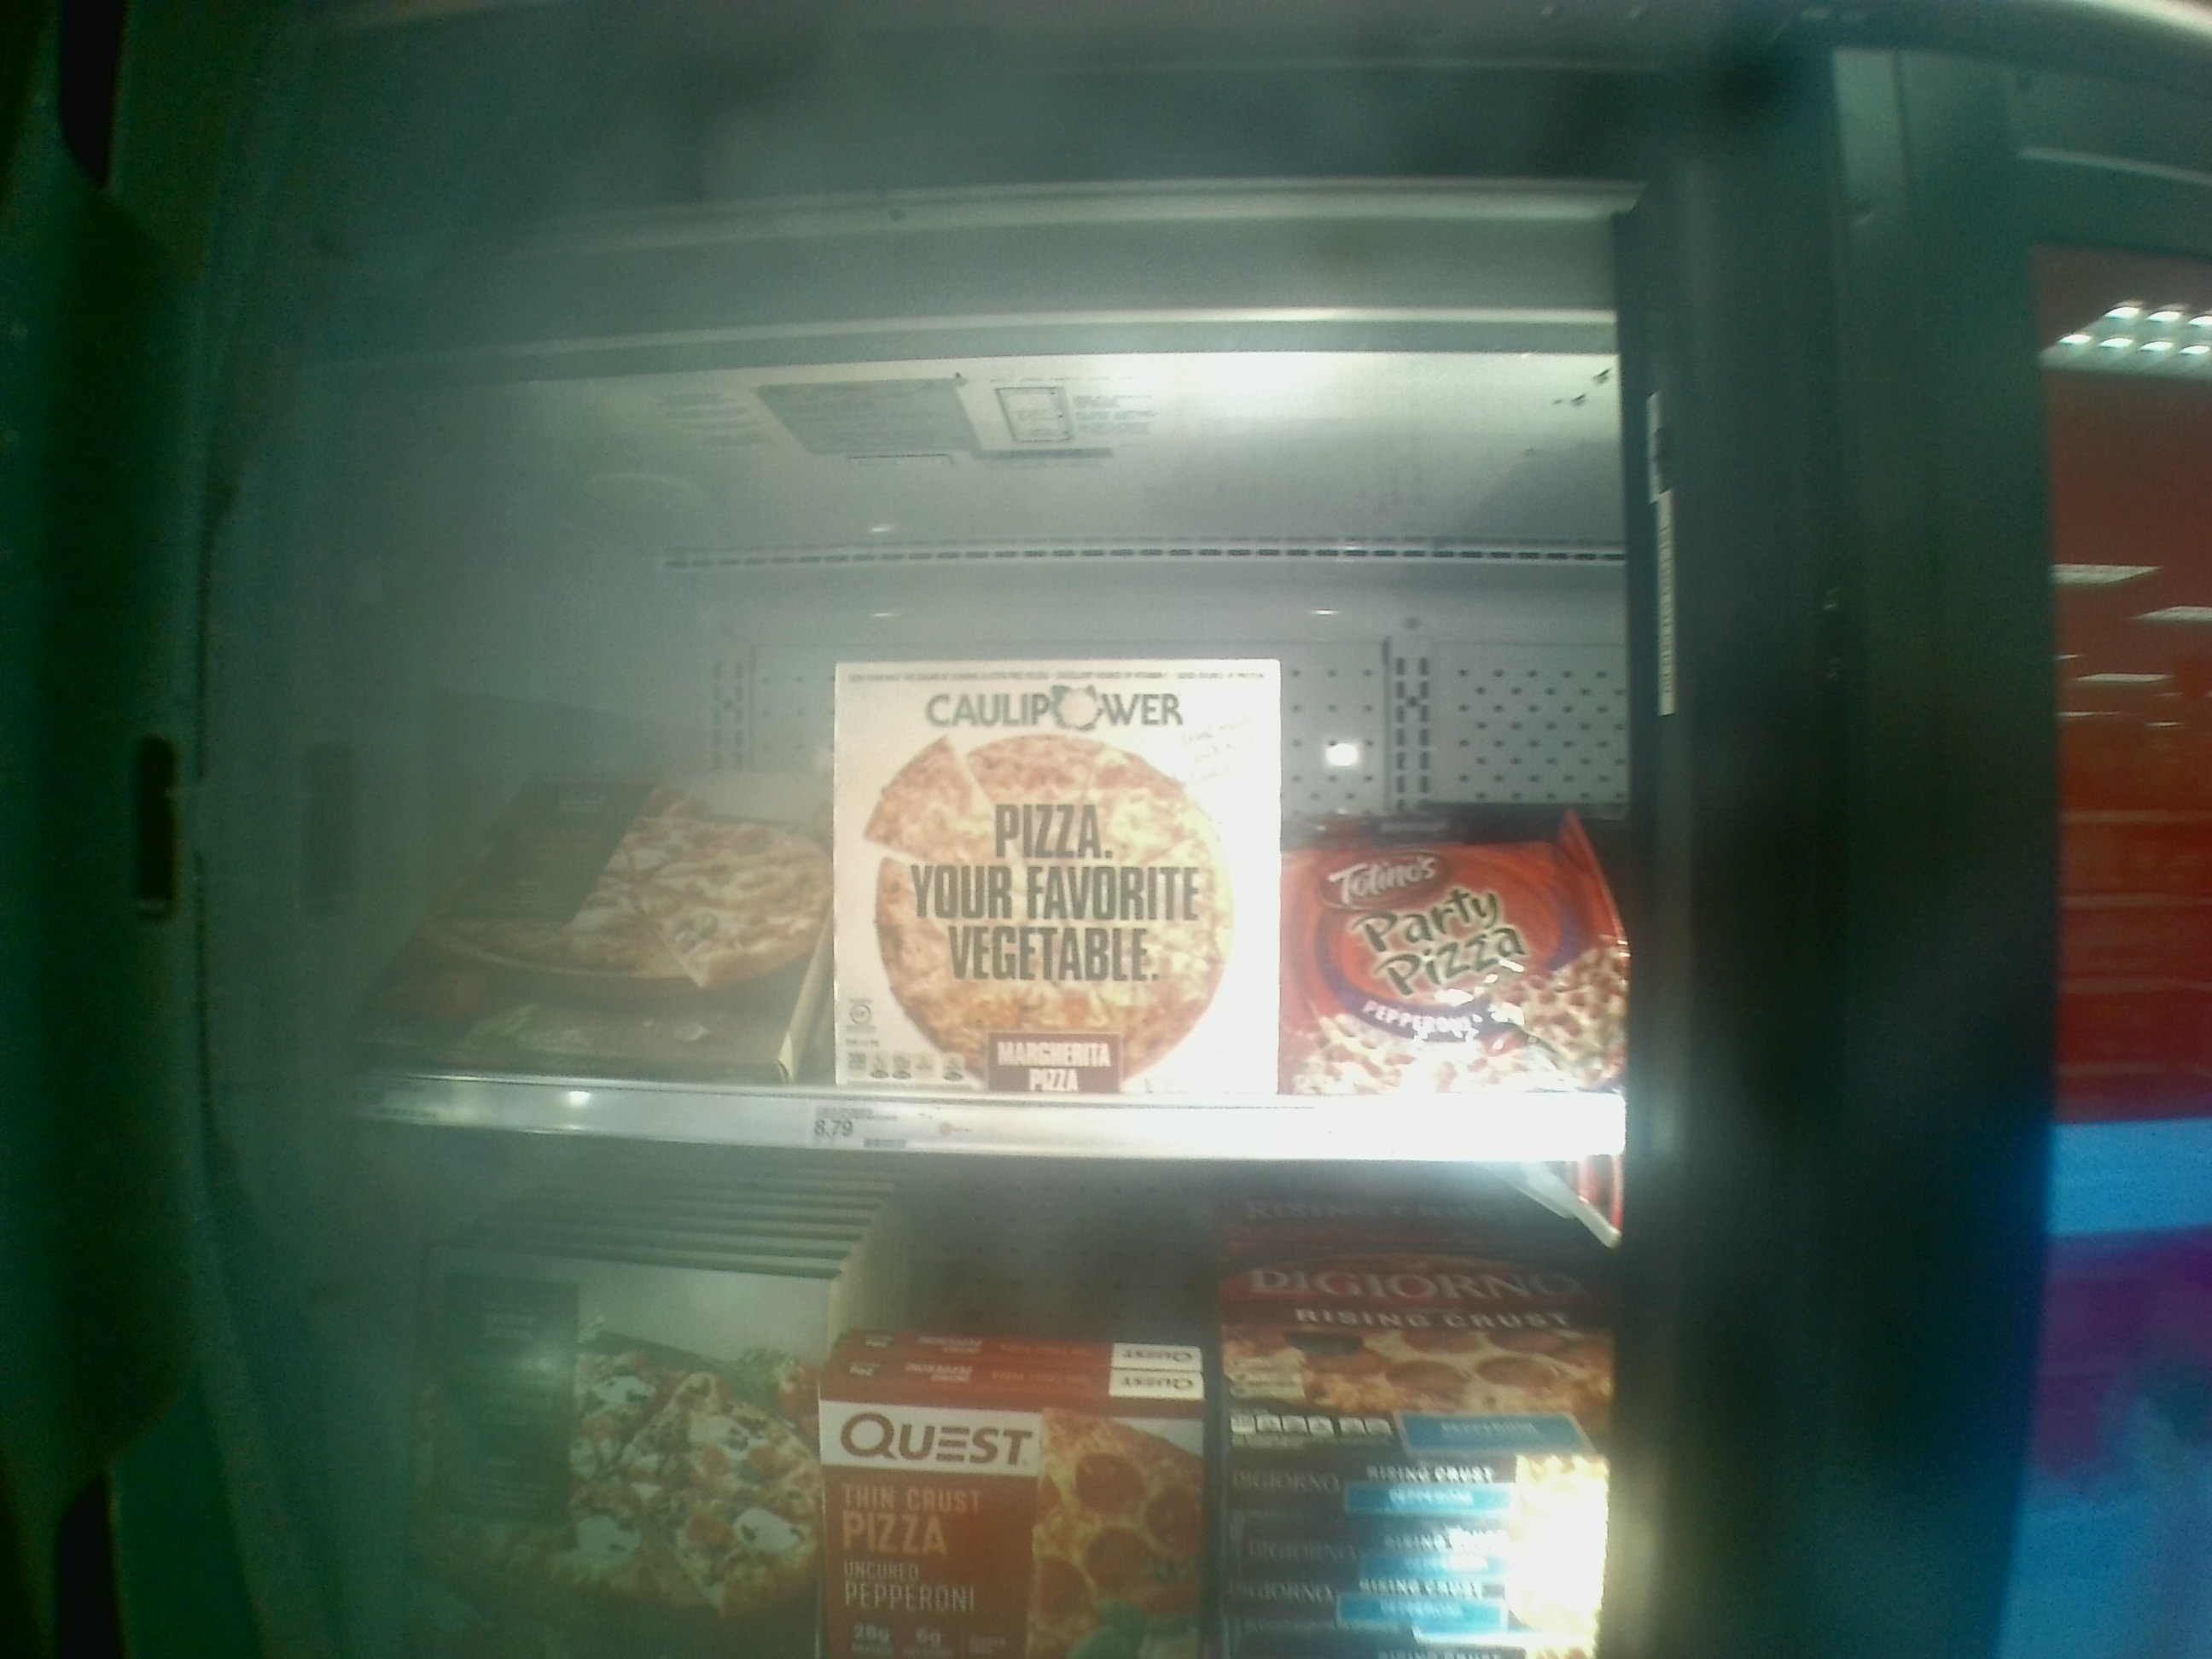pizza: (838, 662, 1291, 1100), (369, 746, 829, 1080), (415, 1255, 796, 1628), (819, 1398, 1205, 1636), (1285, 838, 1611, 1080), (1219, 1225, 1611, 1387), (1233, 1513, 1569, 1579), (1224, 1401, 1595, 1453), (1240, 1577, 1547, 1633), (1240, 1462, 1578, 1507), (846, 1331, 1191, 1364), (833, 1366, 1190, 1387)
